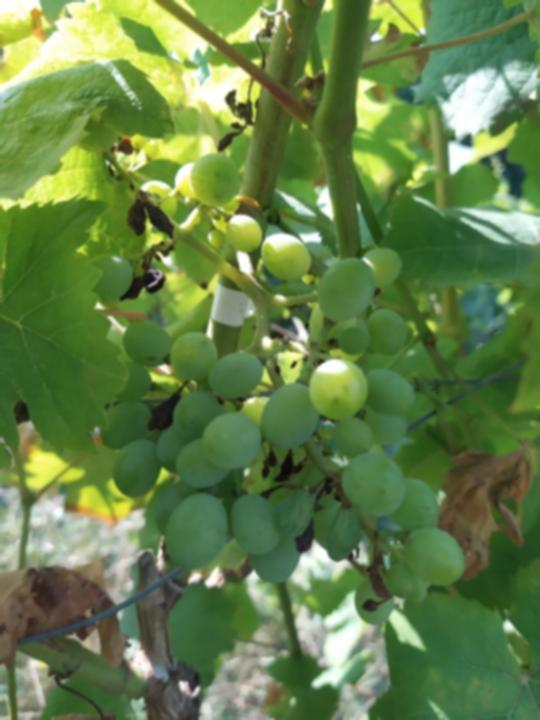grape: (83, 152, 466, 627)
